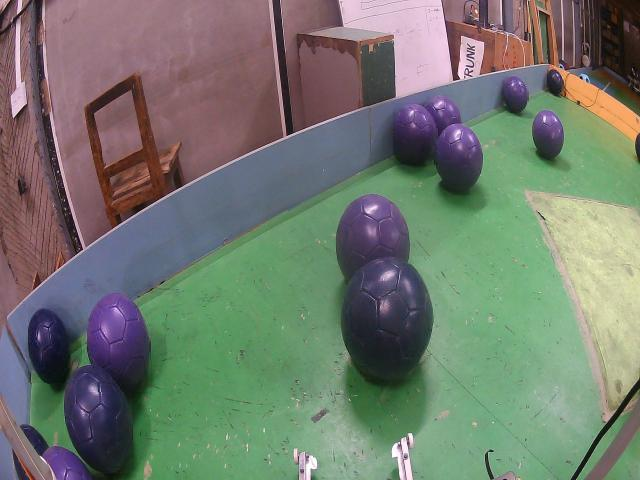jambhalya: (336, 193, 410, 281), (87, 293, 150, 392), (435, 123, 482, 192), (393, 103, 437, 165), (43, 445, 92, 480), (533, 110, 564, 158), (426, 95, 461, 135), (504, 77, 528, 113)
kaalyya: (341, 256, 434, 379), (64, 365, 132, 473), (29, 309, 69, 383), (547, 70, 563, 95)
